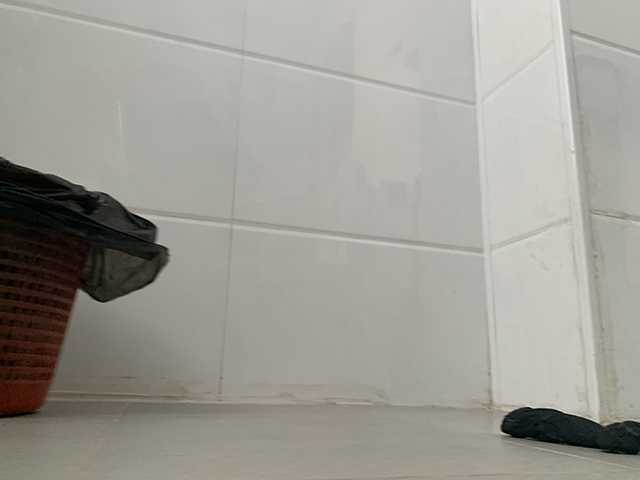feces: (499, 406, 640, 456)
trashcan: (1, 152, 173, 420)
